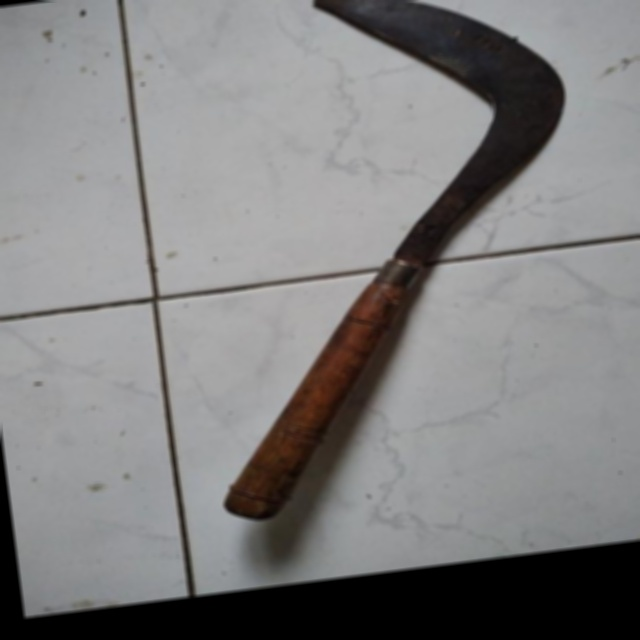Sharp-Object: (157, 0, 627, 538)
